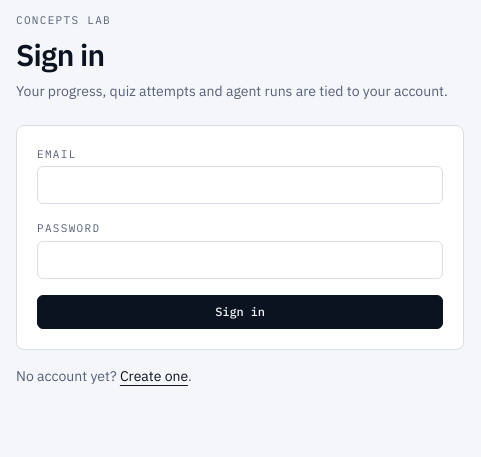
Test: LoginPage › shows the server error for RATE_LIMITED
In the field labelled "Email": (240, 185) [37,166,443,204], type "learner@example.test"
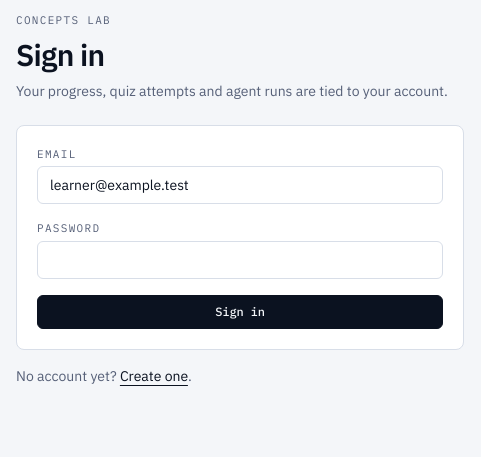
In the password field labelled "Password": (240, 260) [37,240,443,278], type "whatever it takes"
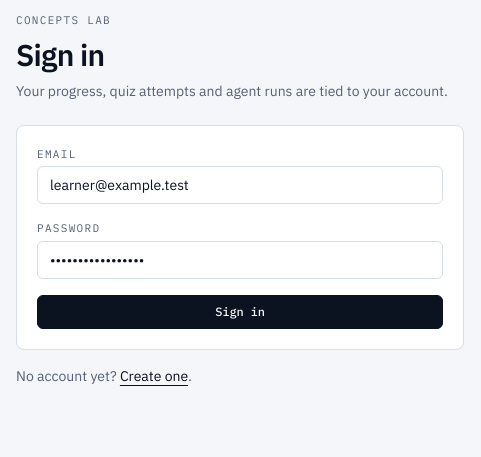
Click the button "Sign in": click(240, 312) [37,294,443,328]
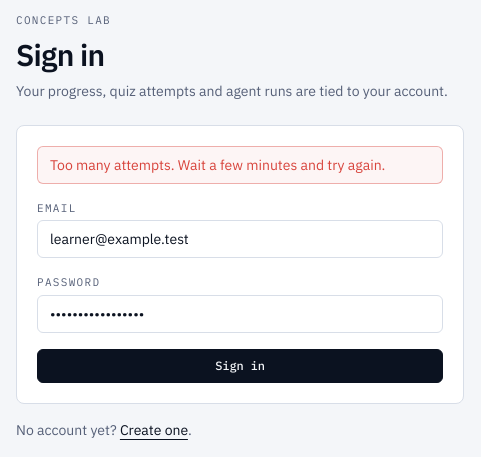
Check: the message with test id "form-error" shows "Too many attempts", box [50,156,385,174]
